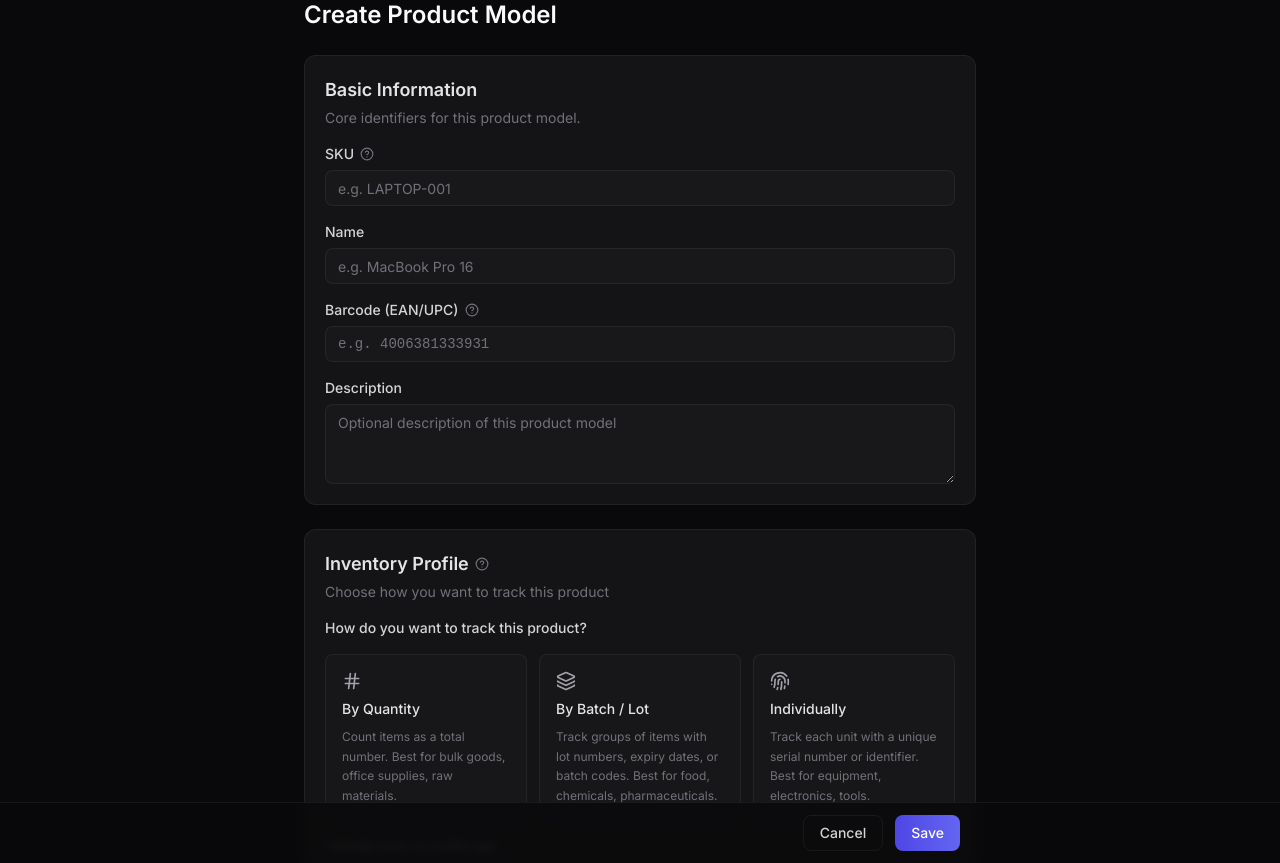
it: ProductModelCreate – Tracking Preset section › renders Initial Batch section when PERISHABLE profile is picked
The image size is (1280, 863).
Click the text "By Batch / Lot" at (602, 709), box [556, 699, 649, 719]
(page scrolled)
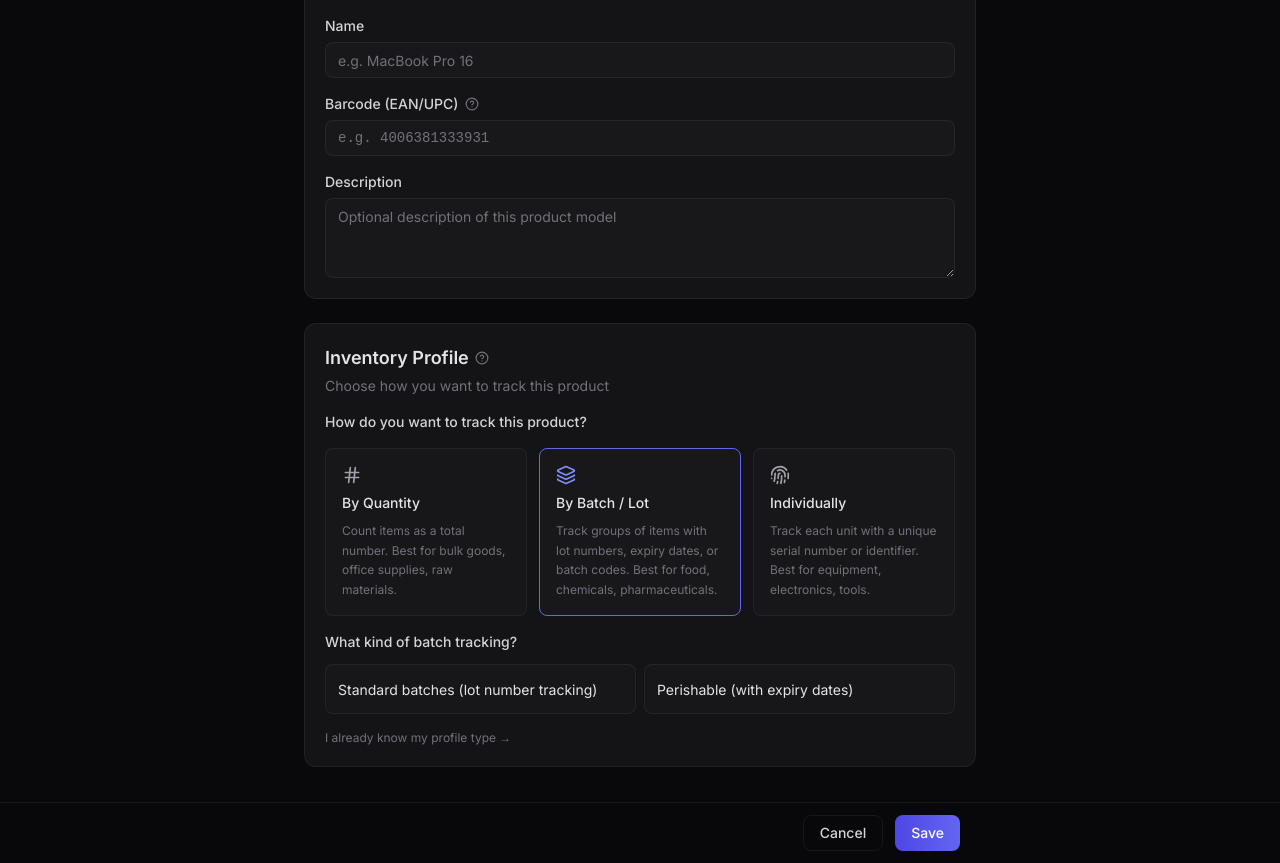
Click the button "Perishable (with expiry dates)" at (800, 689), box [644, 664, 955, 714]
(page scrolled)
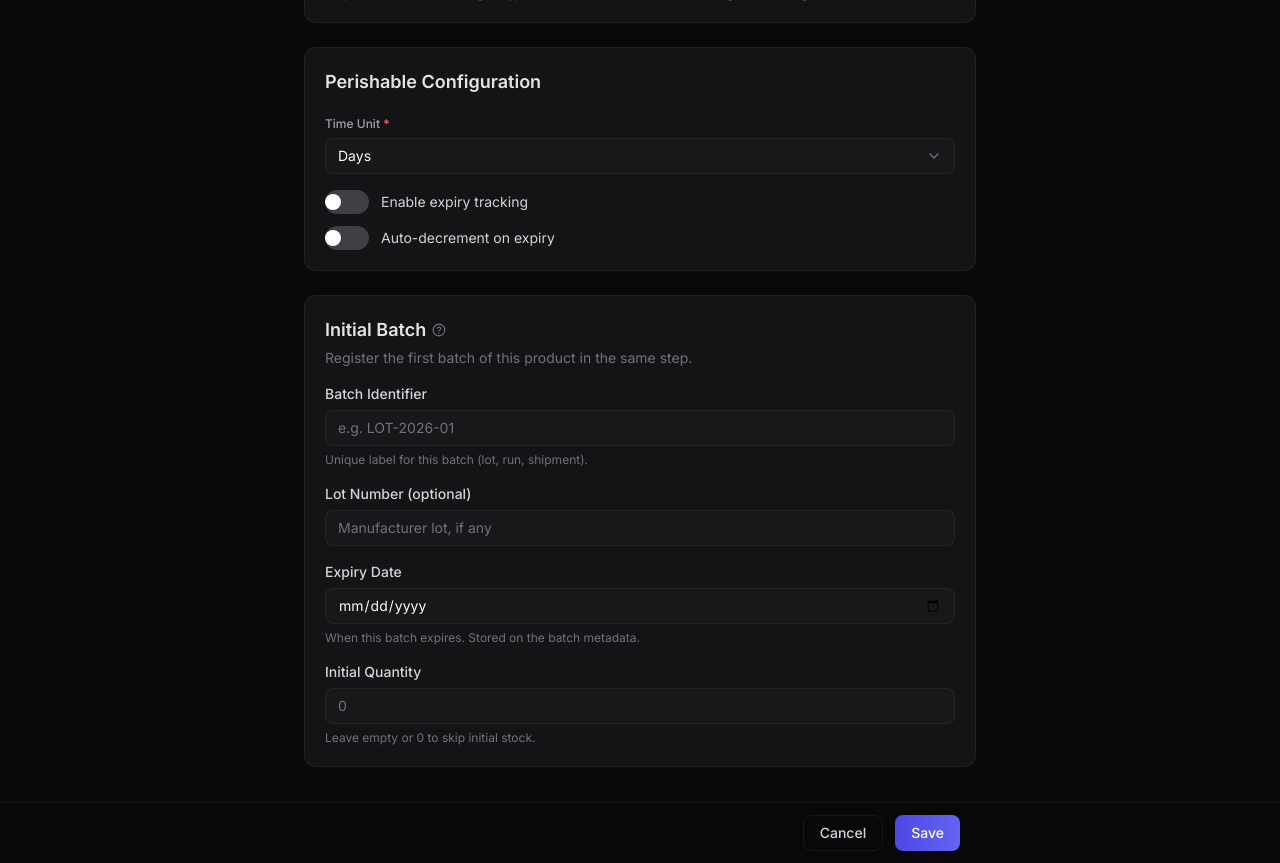
Now the heading "Initial Batch" is shown, box [325, 316, 446, 344]
Now the text "Batch Identifier" is shown, box [325, 384, 427, 402]
Now the text "Expiry Date" is shown, box [325, 562, 402, 580]
